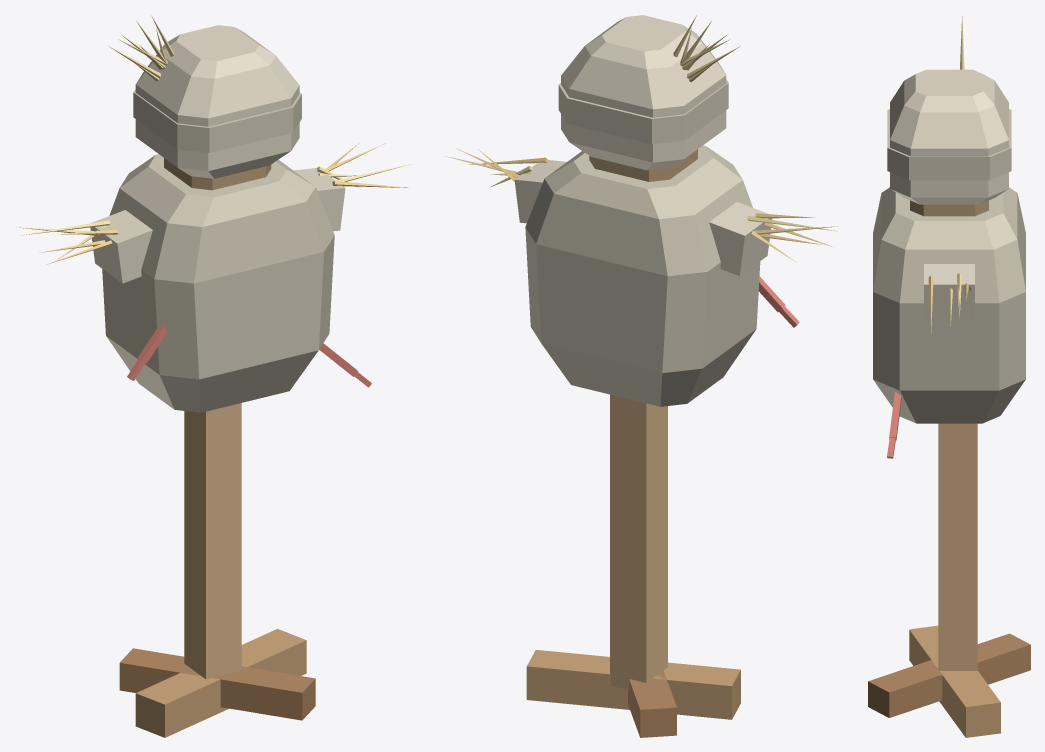
File: dummy-straw.glb
The picture shows the model from 3 angles, left to right: view 1: azimuth 30°, elevation 25°; view 2: azimuth 150°, elevation 25°; view 3: azimuth 270°, elevation 25°; orthographic projection. The views are drawn at different scales.
Visible parts, largest first — view 1: dummy-straw_torso_4, dummy-straw_post_1, dummy-straw_head_6, dummy-straw_support_2, dummy-straw_support_3, dummy-straw_head_facets_7, dummy-straw_shoulder_16, dummy-straw_shoulder_23, dummy-straw_neck_wrap_5; view 2: dummy-straw_torso_4, dummy-straw_post_1, dummy-straw_head_6, dummy-straw_support_2, dummy-straw_head_facets_7, dummy-straw_shoulder_16, dummy-straw_support_3, dummy-straw_shoulder_23, dummy-straw_neck_wrap_5; view 3: dummy-straw_torso_4, dummy-straw_head_6, dummy-straw_post_1, dummy-straw_support_3, dummy-straw_support_2, dummy-straw_head_facets_7, dummy-straw_shoulder_23, dummy-straw_neck_wrap_5, dummy-straw_fabric_tie_32.
Part boxes in pixels (x1=…): dummy-straw_torso_4: x1=102, y1=154, x2=334, y2=412; dummy-straw_post_1: x1=184, y1=403, x2=241, y2=679; dummy-straw_head_6: x1=135, y1=25, x2=299, y2=178; dummy-straw_support_2: x1=135, y1=629, x2=306, y2=737; dummy-straw_support_3: x1=119, y1=648, x2=315, y2=720; dummy-straw_head_facets_7: x1=133, y1=89, x2=301, y2=152; dummy-straw_shoulder_16: x1=90, y1=210, x2=152, y2=283; dummy-straw_shoulder_23: x1=293, y1=168, x2=345, y2=231; dummy-straw_neck_wrap_5: x1=164, y1=158, x2=271, y2=190; dummy-straw_torso_4: x1=525, y1=145, x2=760, y2=406; dummy-straw_post_1: x1=610, y1=394, x2=667, y2=689; dummy-straw_head_6: x1=561, y1=15, x2=726, y2=170; dummy-straw_support_2: x1=526, y1=650, x2=740, y2=719; dummy-straw_head_facets_7: x1=558, y1=79, x2=728, y2=144; dummy-straw_shoulder_16: x1=709, y1=202, x2=772, y2=276; dummy-straw_support_3: x1=628, y1=670, x2=676, y2=737; dummy-straw_shoulder_23: x1=514, y1=160, x2=566, y2=223; dummy-straw_neck_wrap_5: x1=589, y1=149, x2=697, y2=181; dummy-straw_torso_4: x1=873, y1=187, x2=1025, y2=423; dummy-straw_head_6: x1=890, y1=69, x2=1008, y2=204; dummy-straw_post_1: x1=938, y1=423, x2=977, y2=670; dummy-straw_support_3: x1=868, y1=633, x2=1030, y2=717; dummy-straw_support_2: x1=909, y1=625, x2=1000, y2=737; dummy-straw_head_facets_7: x1=887, y1=109, x2=1011, y2=180; dummy-straw_shoulder_23: x1=924, y1=264, x2=974, y2=320; dummy-straw_neck_wrap_5: x1=910, y1=200, x2=988, y2=216; dummy-straw_fabric_tie_32: x1=889, y1=392, x2=901, y2=440.
Size of the model in its own units: 1.5 by 2.52 by 0.575.
